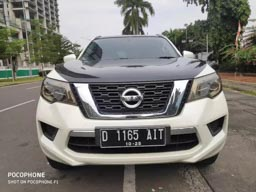plat: (100, 129, 166, 139)
